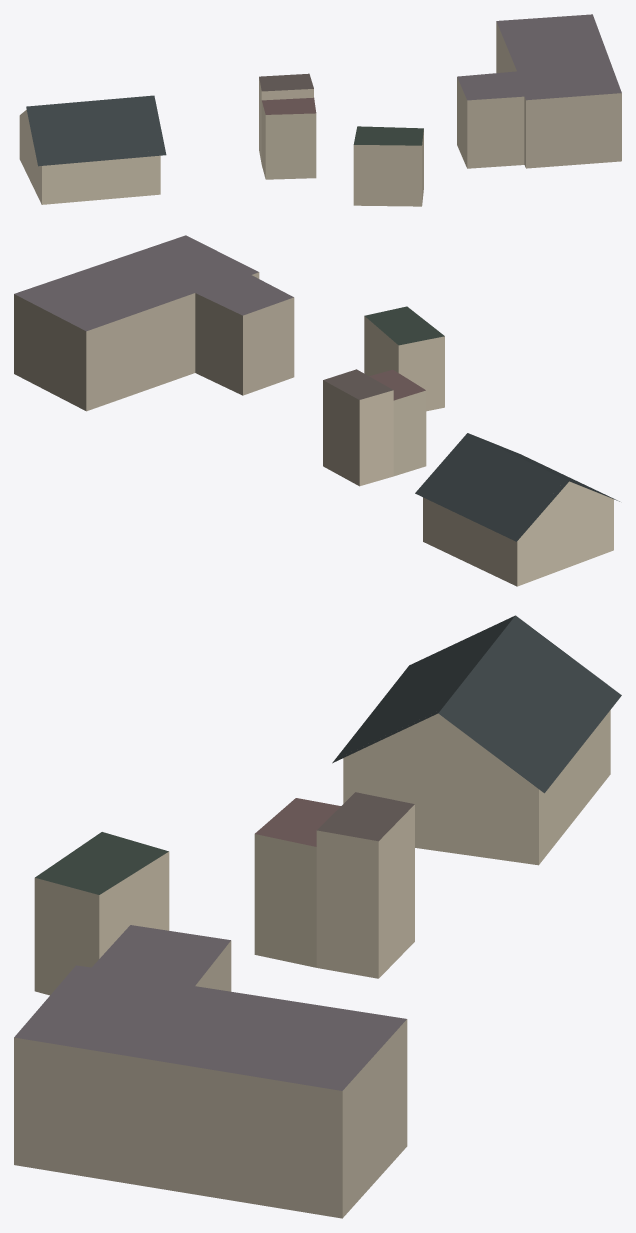
3 views of the same model, one above another, from view 1: azimuth 30°, elevation 25°; view 2: azimuth 150°, elevation 25°; view 3: azimuth 270°, elevation 25° (orthographic). The views are drawn at different scales.
Parts seen in each view (by area): view 1: tuile; view 2: tuile; view 3: tuile.
Boxes of the visible parts, box(x1,y1,x2,y2) form: tuile: box(19, 14, 621, 206); tuile: box(14, 235, 619, 586); tuile: box(14, 615, 621, 1218).
Size of the model in its own units: 44.74 by 6.05 by 23.51.
